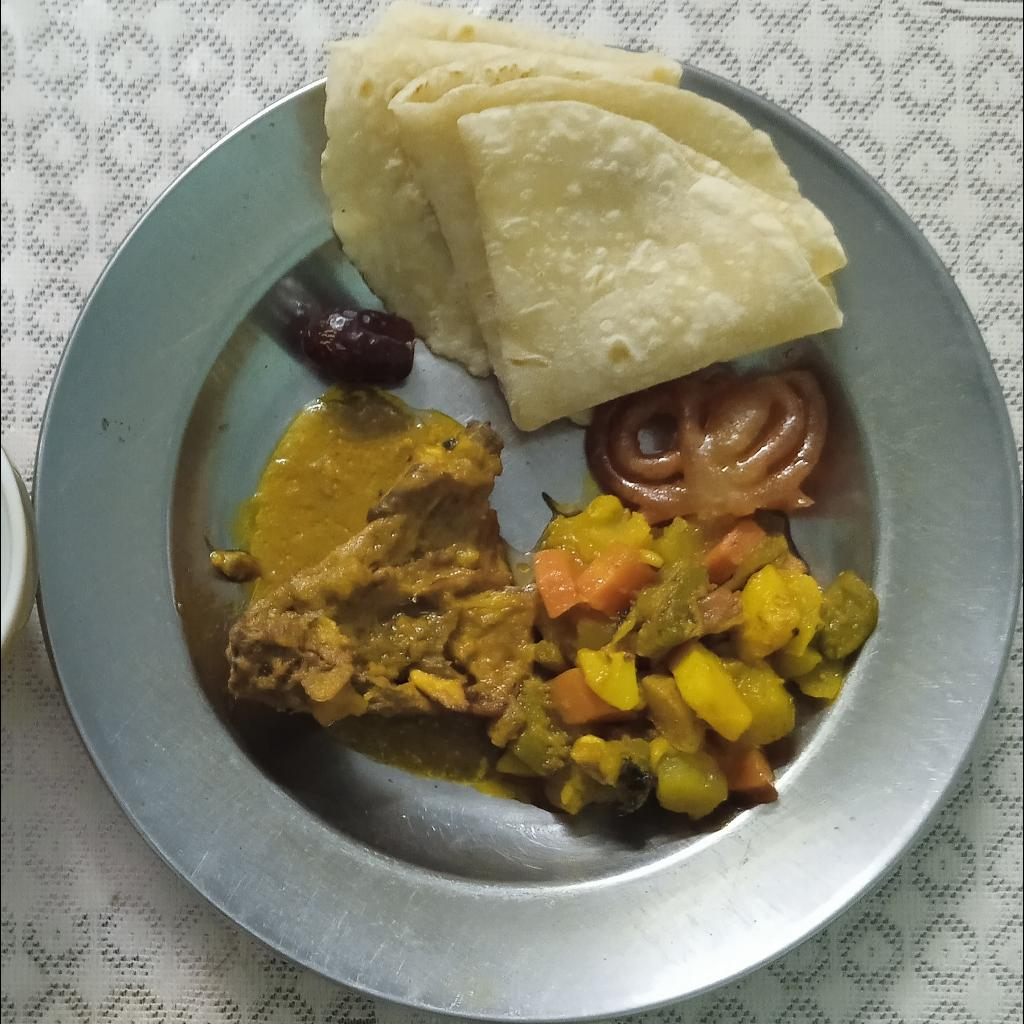chicken: (224, 422, 534, 730)
dates: (298, 305, 416, 383)
jilapi: (584, 364, 828, 525)
ruti: (325, 0, 846, 432)
vegetable: (486, 494, 880, 822)
